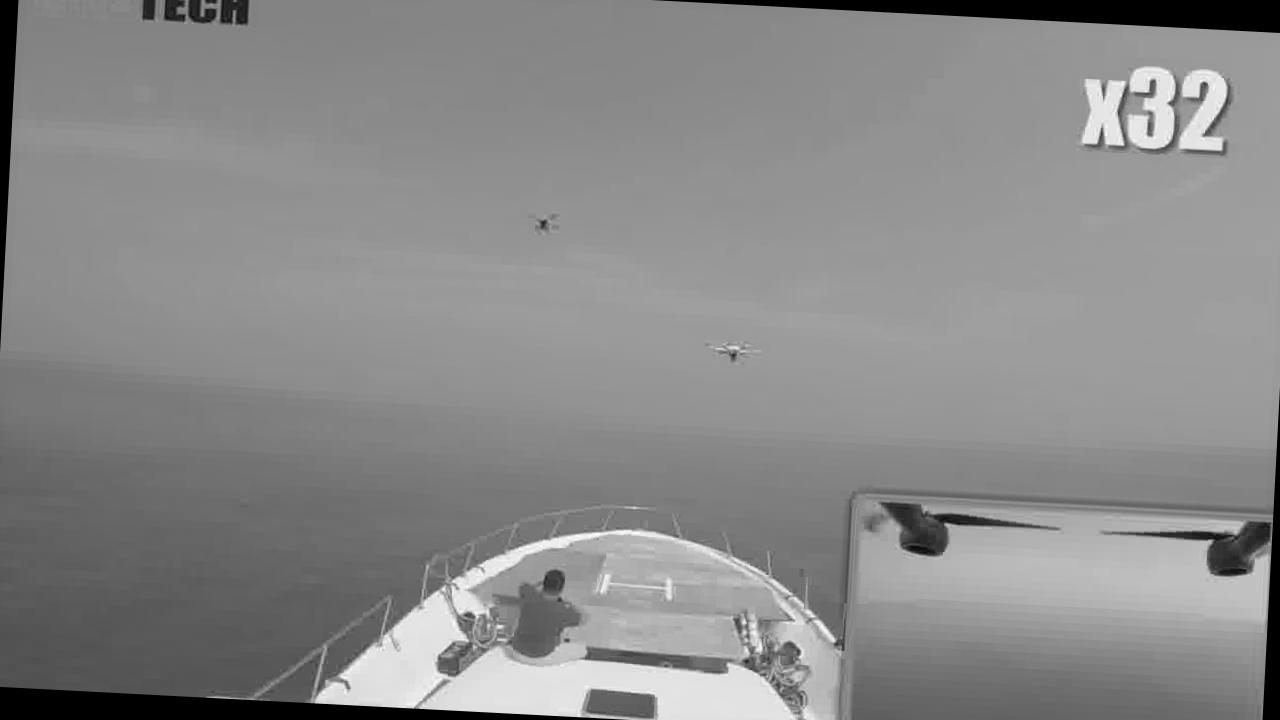drone: (692, 323, 757, 377), (518, 194, 570, 240)
